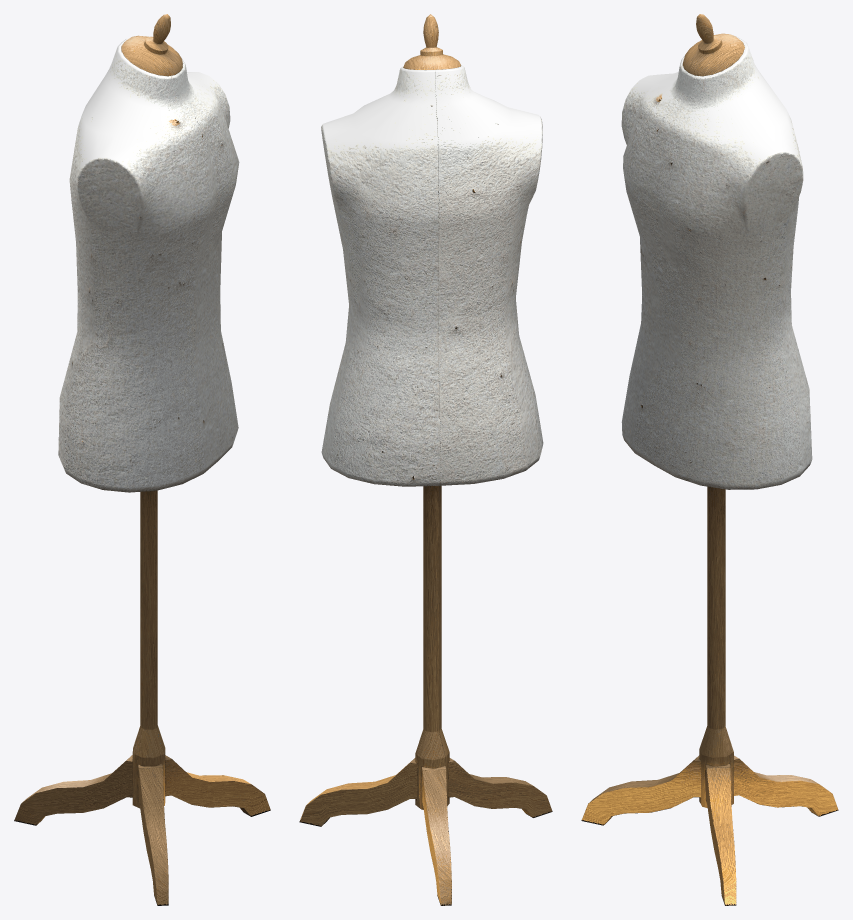
The model's file is Mannequin1 (1.01536 , -1.46519, 0.3).glb.
The picture shows the model from 3 angles, left to right: view 1: azimuth 30°, elevation 25°; view 2: azimuth 150°, elevation 25°; view 3: azimuth 270°, elevation 25°; orthographic projection.
Visible parts, largest first — view 1: DressMannequin.009; view 2: DressMannequin.009; view 3: DressMannequin.009.
Boxes of the visible parts, x1,y1,x2,y2 form: DressMannequin.009: (14,14,270,905); DressMannequin.009: (299,14,552,905); DressMannequin.009: (581,14,838,905).
Bounding box in the file's own units: 0.5049 × 1.86 × 0.518.
Materials: 1 (1 with a texture image).
